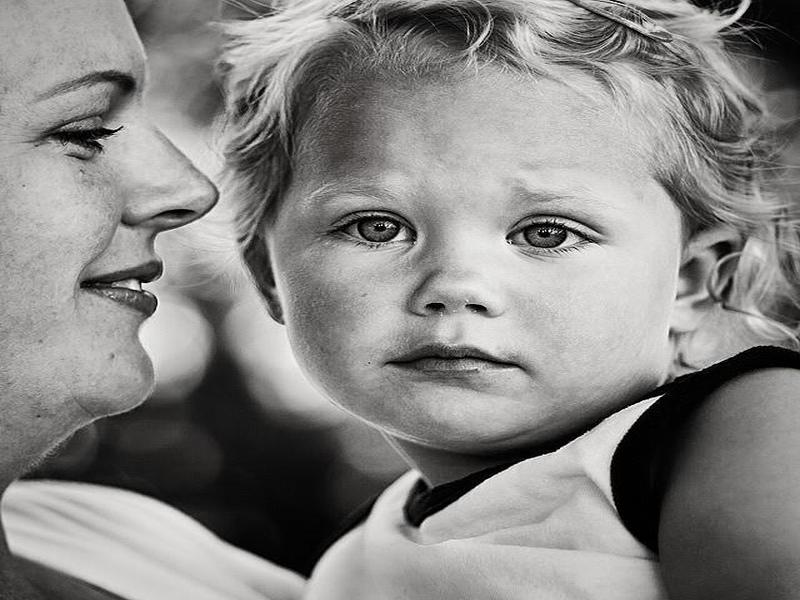person: (237, 1, 798, 600), (1, 1, 232, 598)
